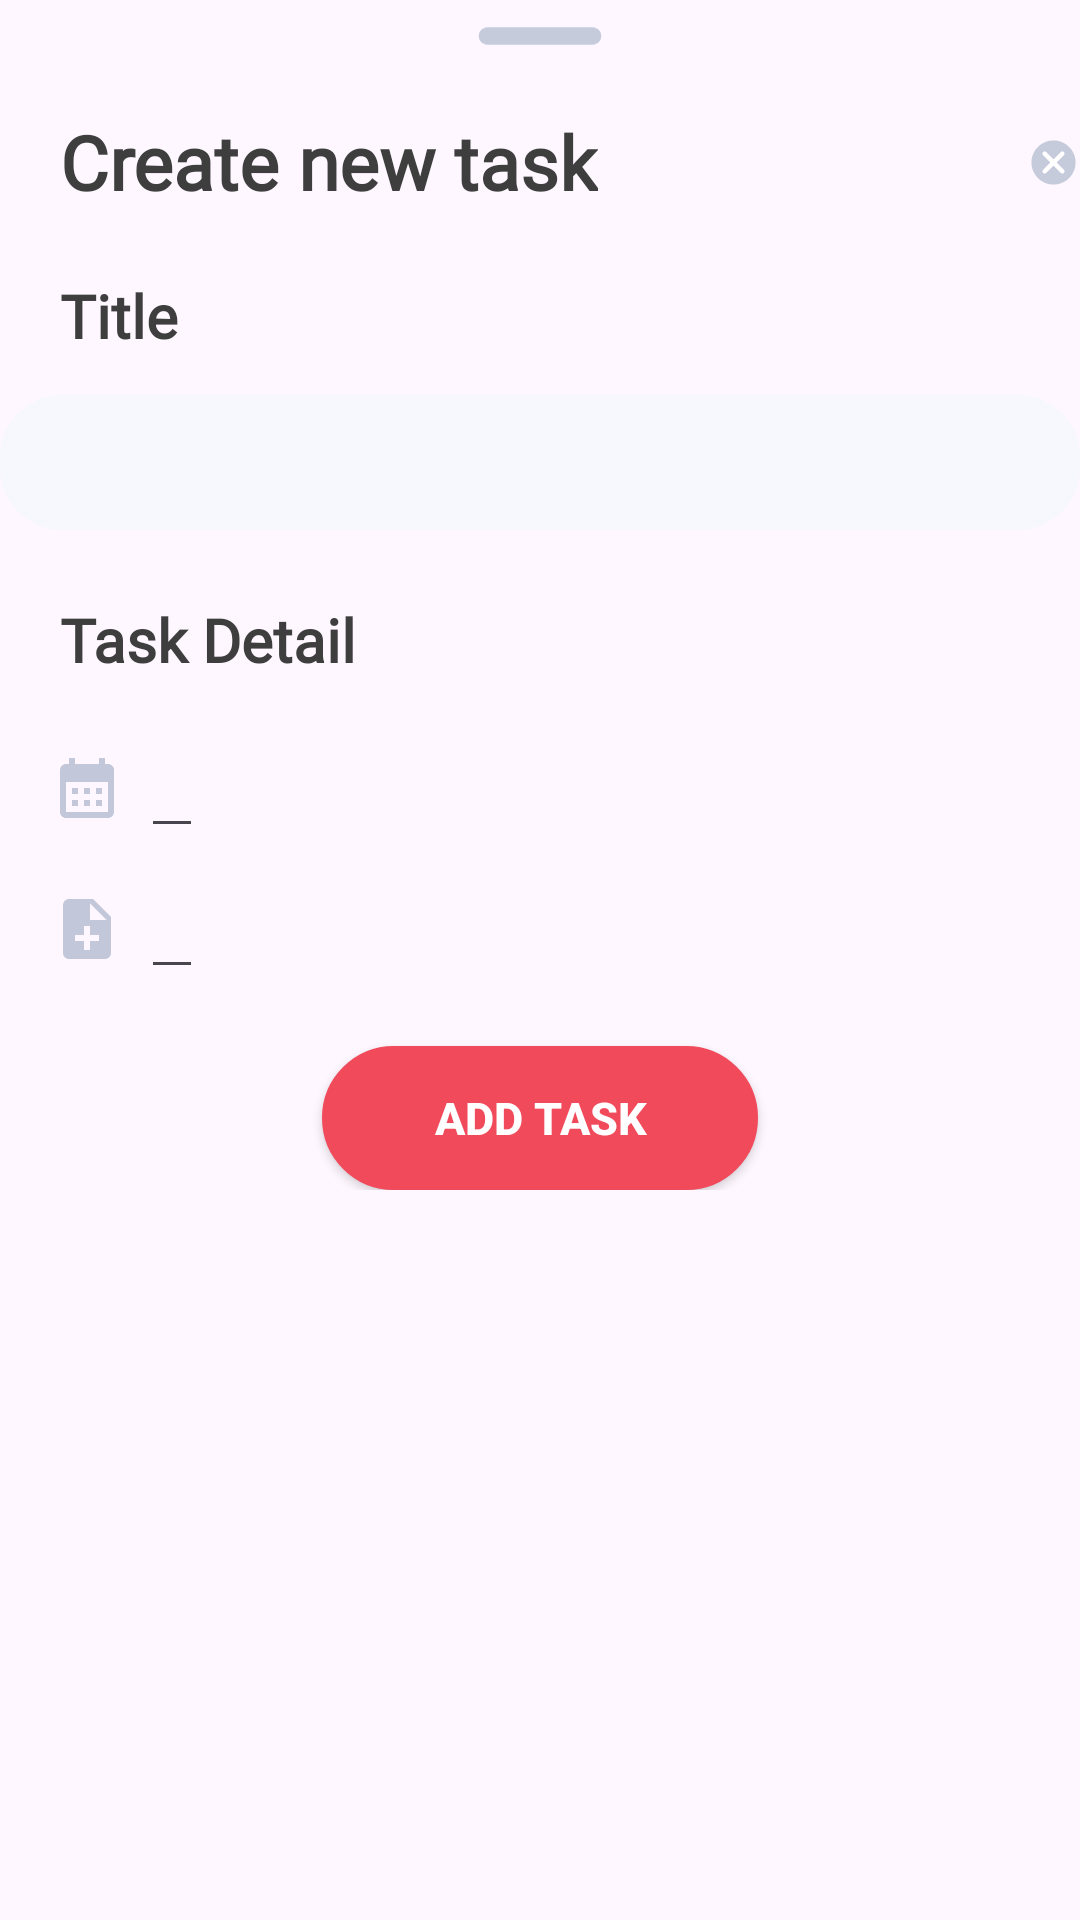

Icon bounding boxes for this 1080px×1920px phone screenshot, format detection(x1, y1, x2, y2):
calendar month: detection(60, 758, 114, 818)
note add: detection(63, 899, 111, 959)
